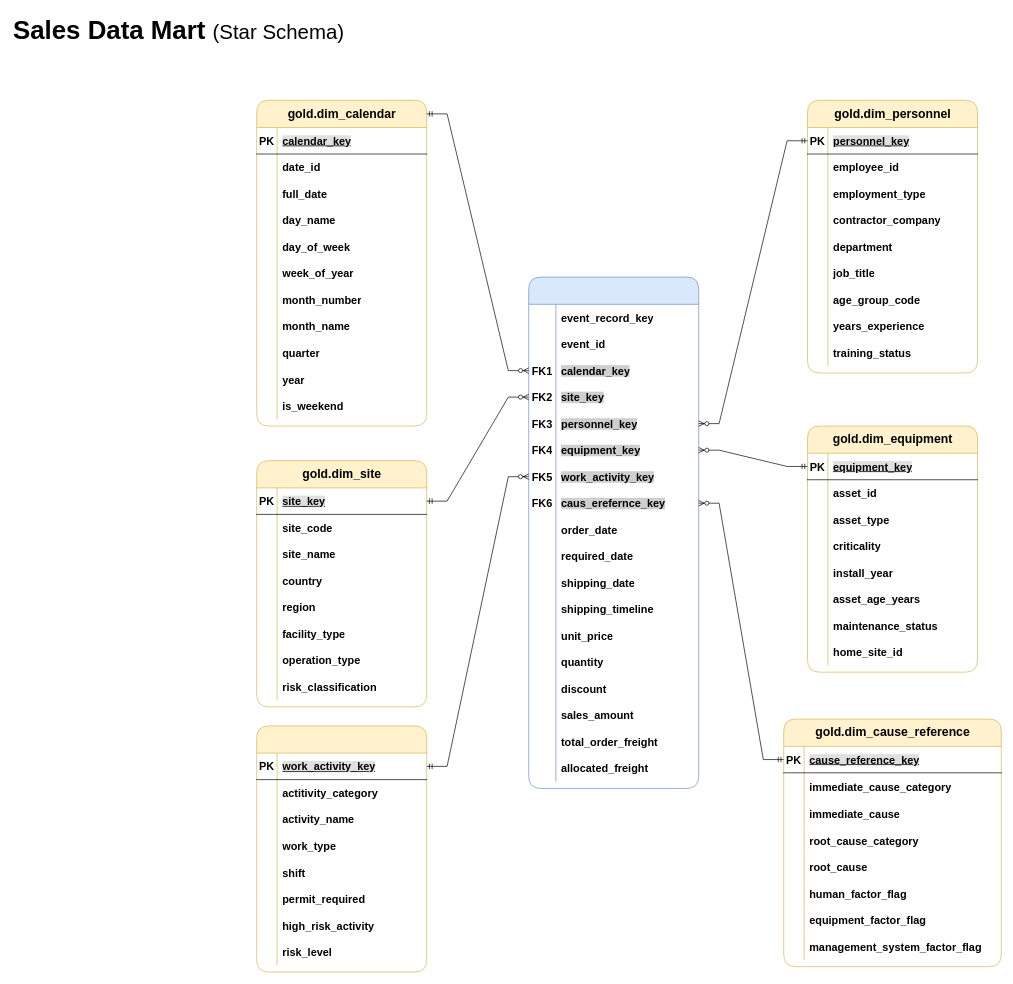
Some shapes in this 1013 by 984 pixel diagram are drawn without their labels. Each missing label, with the box of its shape:
gold.dim_work_activities: (256, 725, 427, 972)
gold.fact_order_line: (528, 276, 699, 788)
